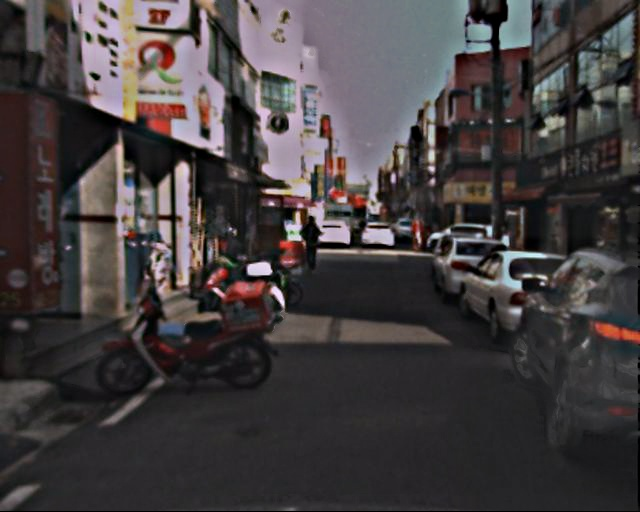person: (302, 216, 326, 274), (412, 218, 435, 255)
